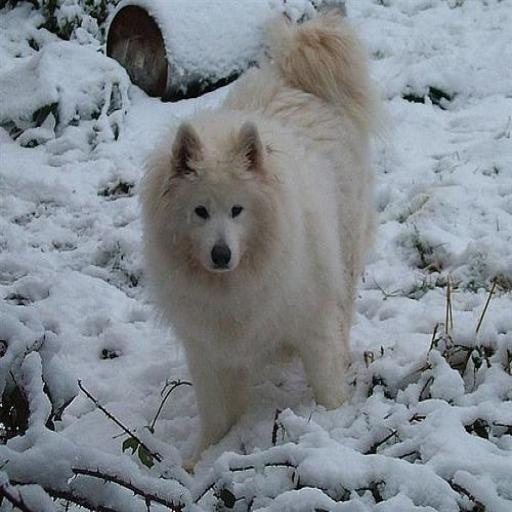dog_face: (161, 110, 276, 275)
